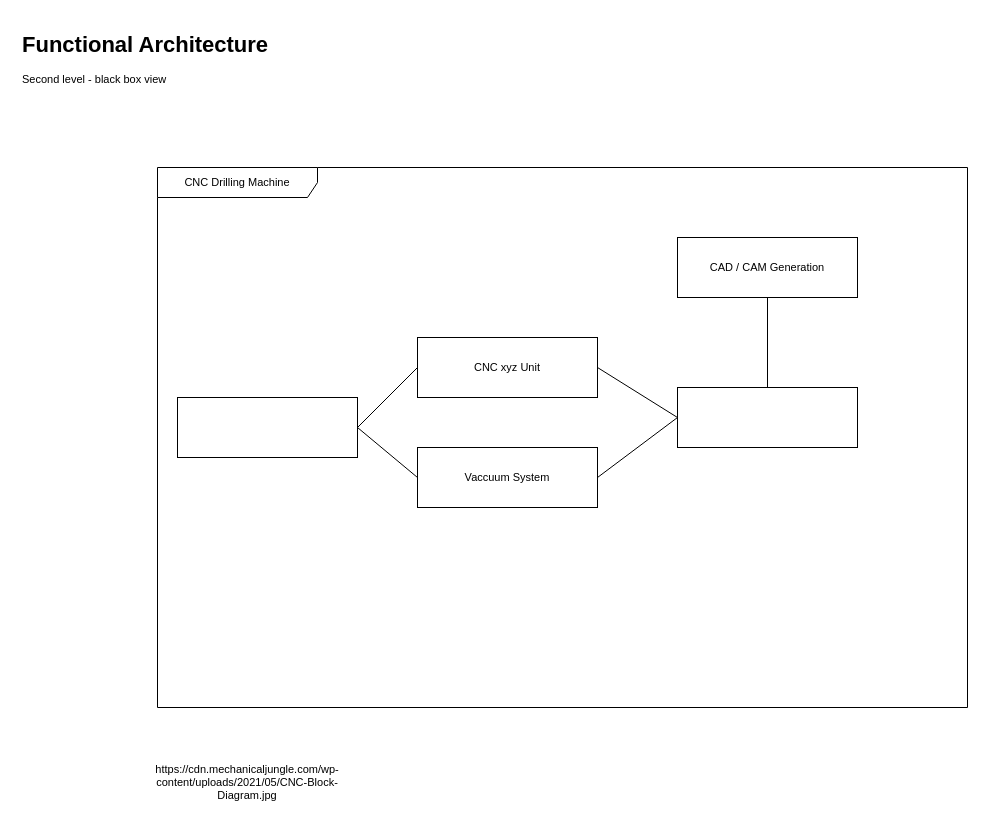
This 985x819 diagram has some shape labels left out. The box of each missing label's shape, as (x1, y1, x2, y2) in pixels:
Machine Control Unit (MCU): (676, 386, 858, 448)
Supporting Frame ?: (176, 396, 358, 458)
